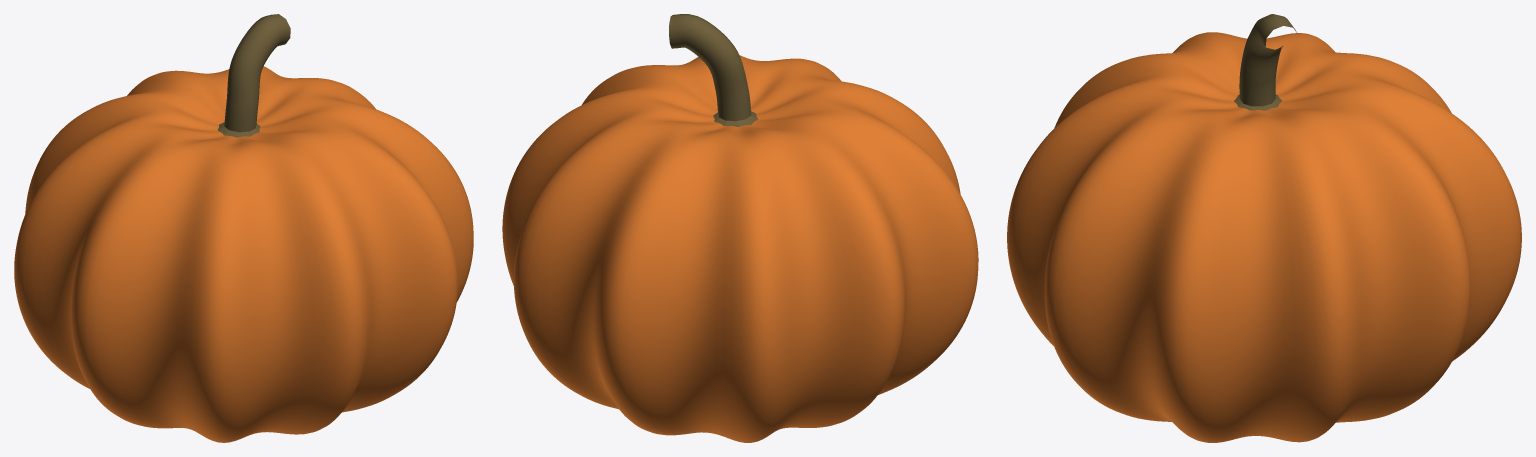
Rendered from pumpkin-carvable.glb.
3 views of the same model, side by side, from view 1: azimuth 30°, elevation 25°; view 2: azimuth 150°, elevation 25°; view 3: azimuth 270°, elevation 25° (orthographic). The views are drawn at different scales.
Visible parts, largest first — view 1: PumpkinShell, Stem; view 2: PumpkinShell, Stem; view 3: PumpkinShell, Stem.
Part boxes in pixels (x1,y1,x2,y2): PumpkinShell: (14, 66, 473, 442); Stem: (224, 14, 290, 132); PumpkinShell: (502, 55, 978, 442); Stem: (669, 14, 751, 121); PumpkinShell: (1007, 32, 1521, 442); Stem: (1239, 14, 1297, 106).
Size of the model in its own units: 2.91 by 2.53 by 2.99.
